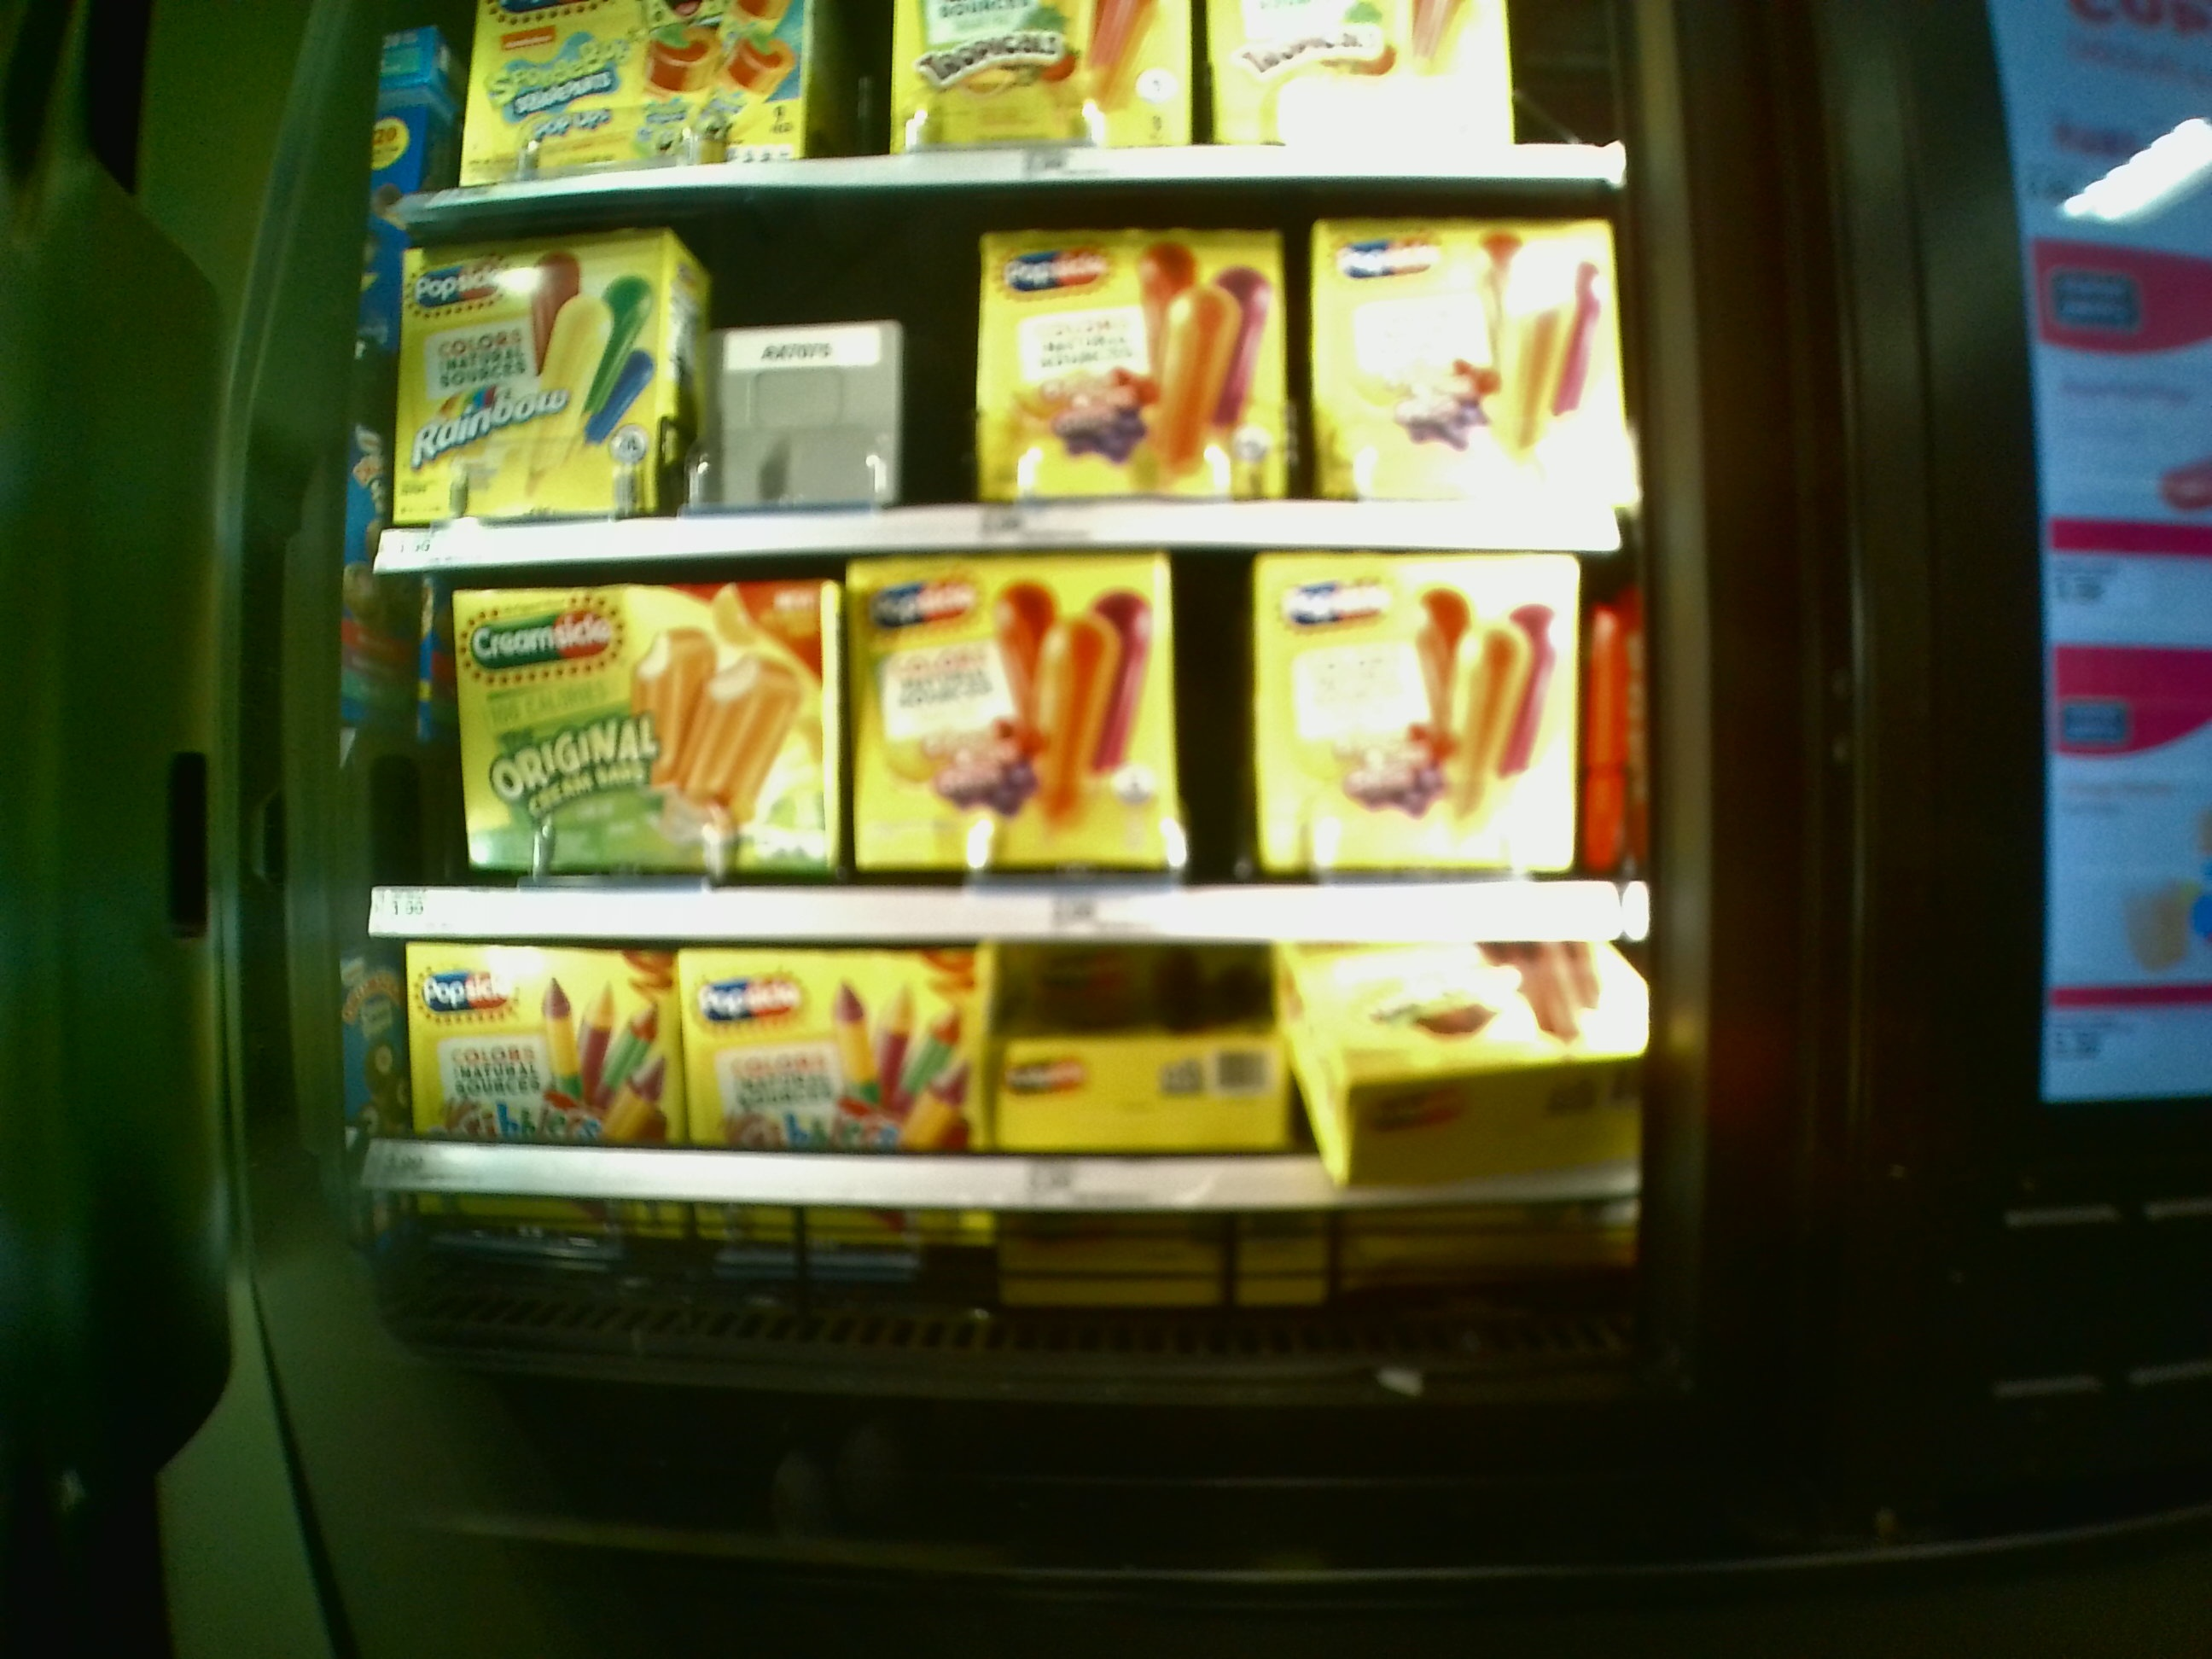frozen-food-shelf: (364, 568, 1656, 950), (371, 209, 1634, 566), (347, 948, 1672, 1213)
